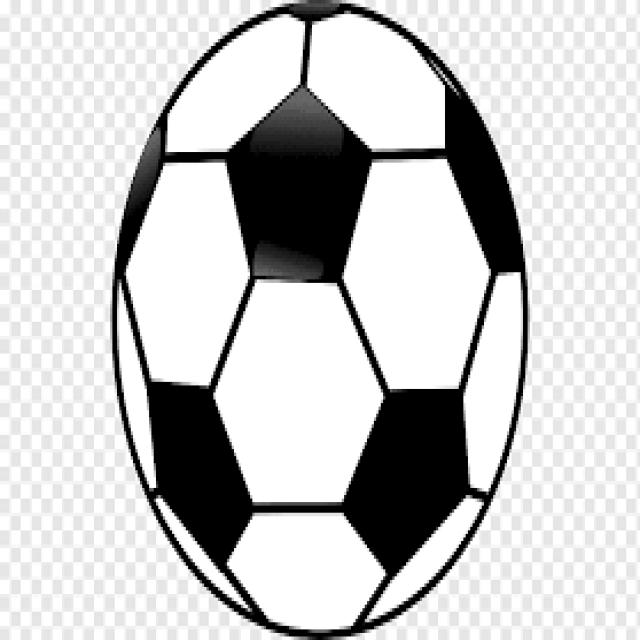ball: (111, 0, 530, 639)
